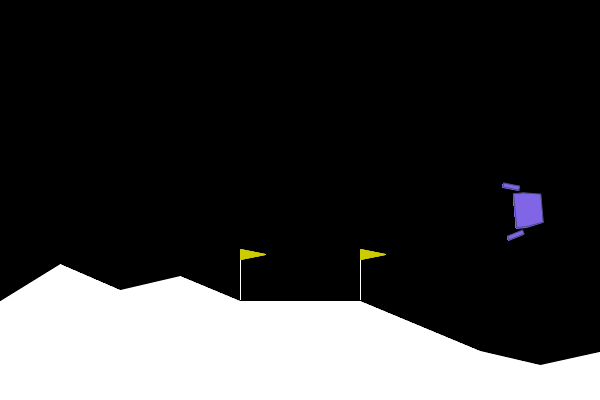lander: (501, 179, 546, 242)
